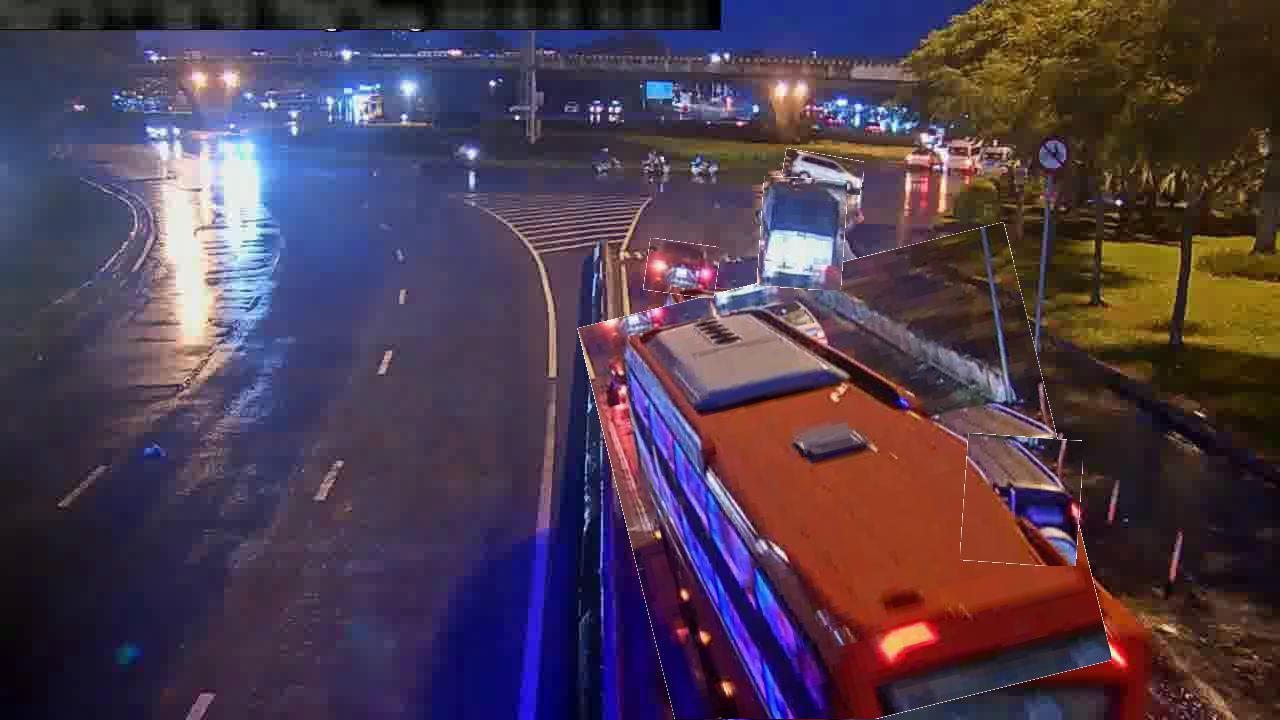14: (601, 245, 1089, 719)
8: (759, 178, 847, 290)
container: (962, 435, 1082, 566), (645, 241, 719, 297), (782, 152, 864, 193)
